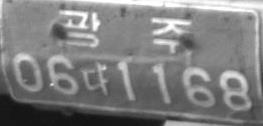0: (11, 50, 44, 93)
1: (146, 62, 176, 103), (110, 59, 138, 101)
6: (181, 64, 215, 108), (45, 53, 79, 96)
8: (218, 68, 253, 112)
광주_D: (57, 8, 192, 54)
다: (80, 60, 109, 96)
